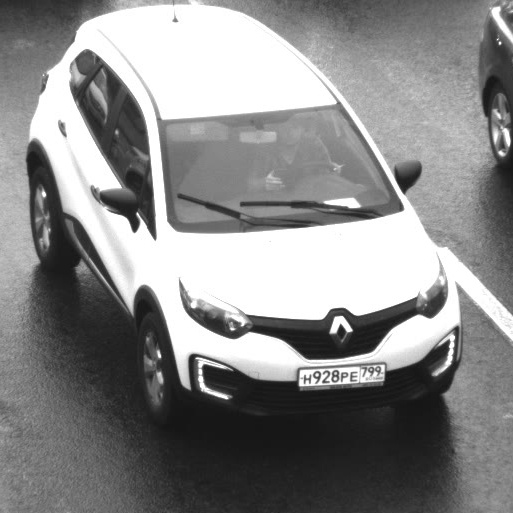plate: (291, 353, 393, 395)
